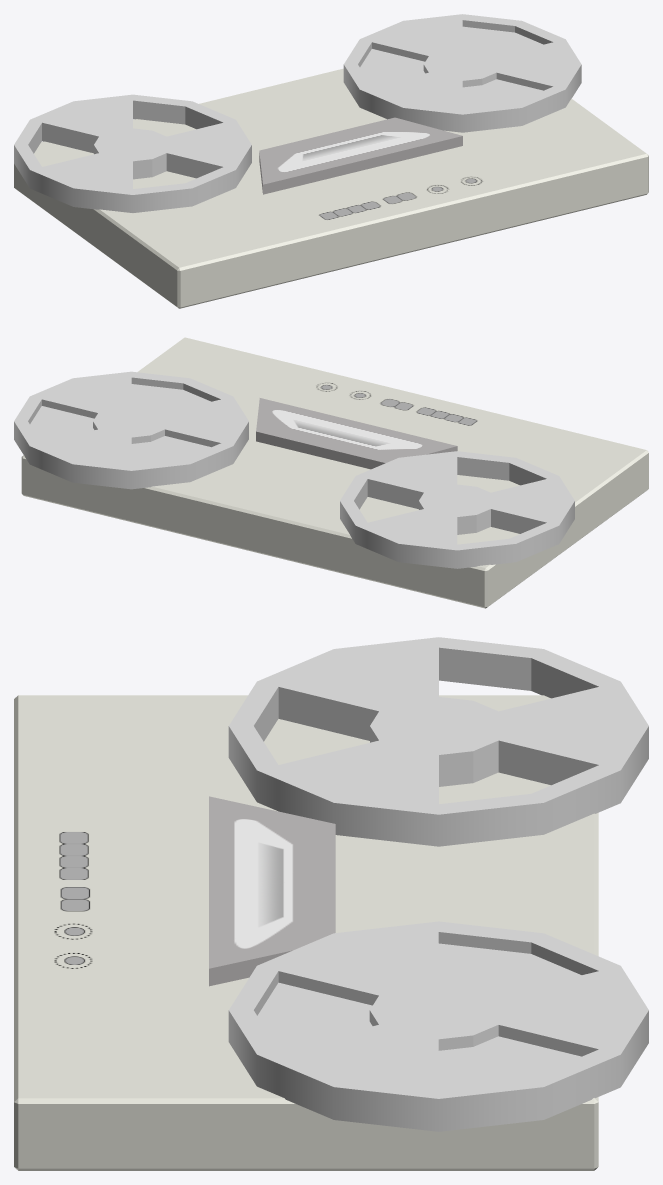
Rendered from _ideotape.fbx.
The picture shows the model from 3 angles, top to bottom: view 1: azimuth 30°, elevation 25°; view 2: azimuth 150°, elevation 25°; view 3: azimuth 270°, elevation 25°; orthographic projection. The views are drawn at different scales.
Parts seen in each view (by area): view 1: box tape, tape holder 2, tape holder 1, center box tape, Tape; view 2: box tape, tape holder 2, tape holder 1, center box tape, Tape; view 3: box tape, tape holder 2, tape holder 1, center box tape, Tape.
Boxes of the visible parts, x1,y1,x2,y2 form: box tape: [14, 68, 648, 308]; tape holder 2: [14, 94, 251, 212]; tape holder 1: [343, 14, 581, 132]; center box tape: [259, 117, 462, 194]; Tape: [360, 26, 542, 108]; box tape: [21, 337, 648, 608]; tape holder 2: [340, 451, 574, 568]; tape holder 1: [14, 371, 248, 489]; center box tape: [256, 398, 457, 469]; Tape: [30, 384, 210, 464]; box tape: [14, 695, 598, 1170]; tape holder 2: [228, 637, 648, 846]; tape holder 1: [228, 921, 648, 1131]; center box tape: [209, 796, 335, 986]; Tape: [257, 943, 581, 1088].
Size of the model in its own units: 130 by 13.7 by 75.42.
2 materials, 2 textured.
